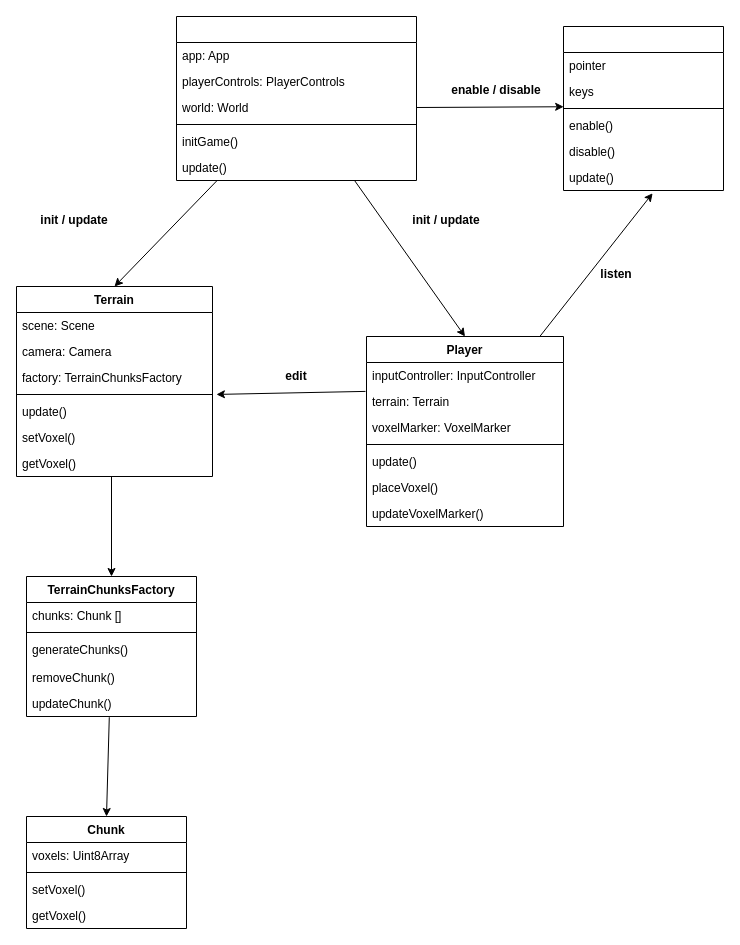
Image size: 740x945. Some labels were removed from this diagram. The shapes that lost their labels are listed below. From the top down, each one's box as (x1, y1, x2, y2) in pixels, then its label:
(176, 16, 416, 180): GameManager
(562, 26, 724, 190): InputController
